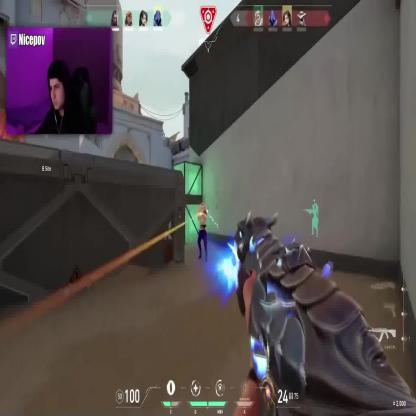enemy: (196, 202, 208, 262)
enemy_head: (201, 202, 205, 212)
